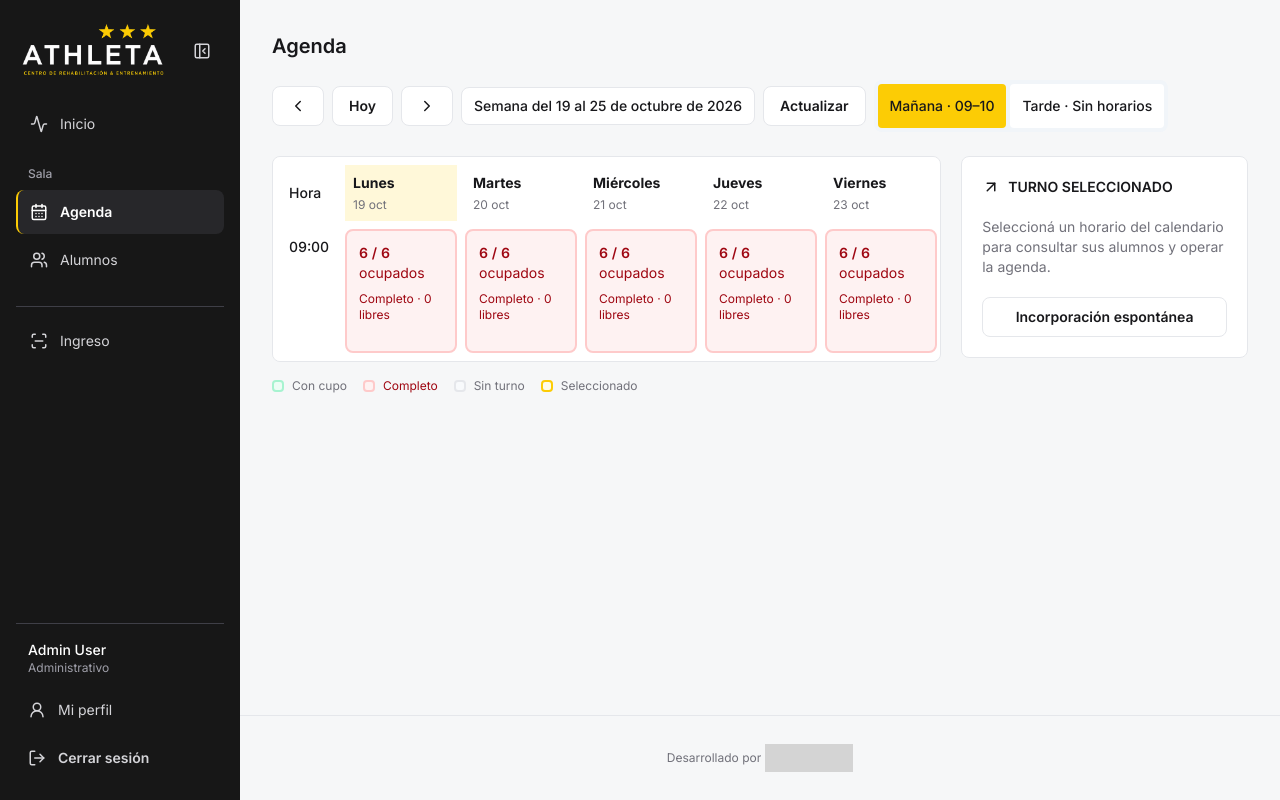
it: prevents assignment when a slot is full
The width and height of the screenshot is (1280, 800).
Click the button with aria-label "lunes 09:00:".
click(401, 291)  # box [345,229,457,353]
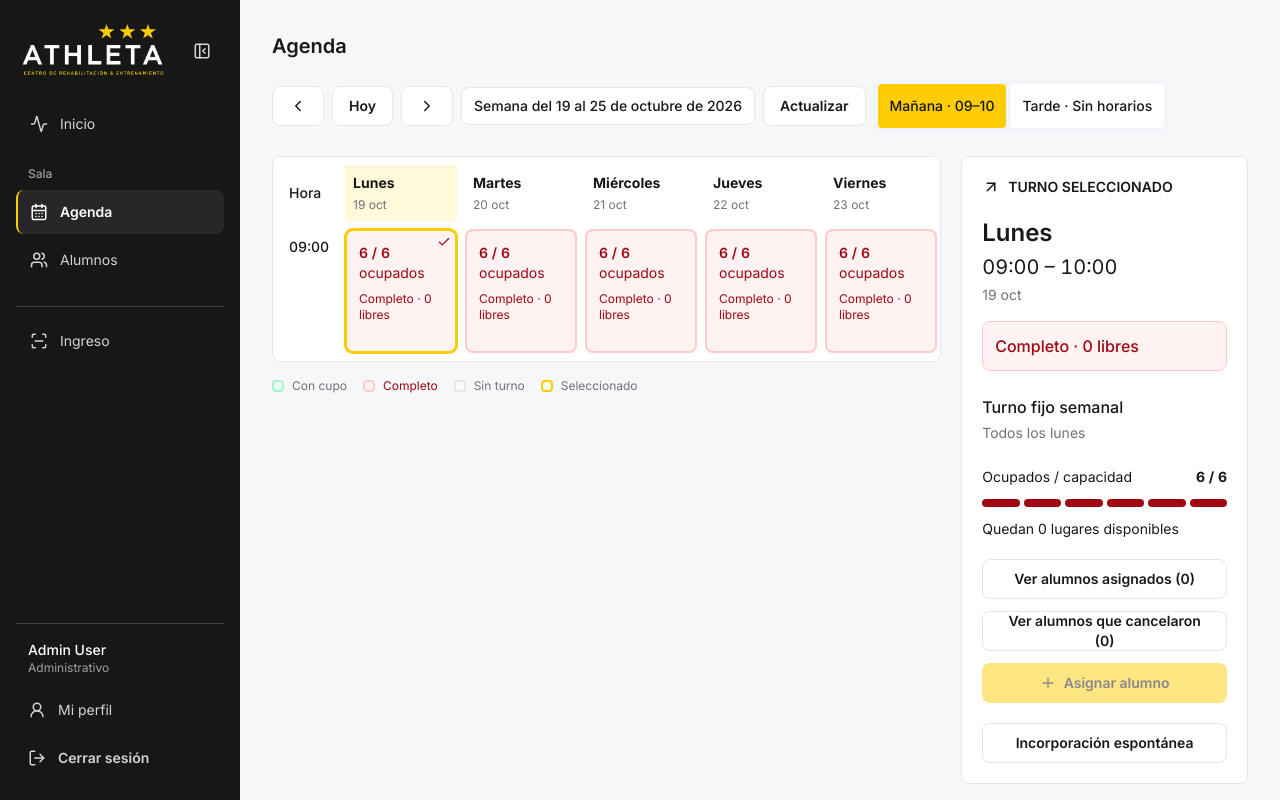
Expected: the button "Asignar alumno" is disabled, [982,663,1227,703]
